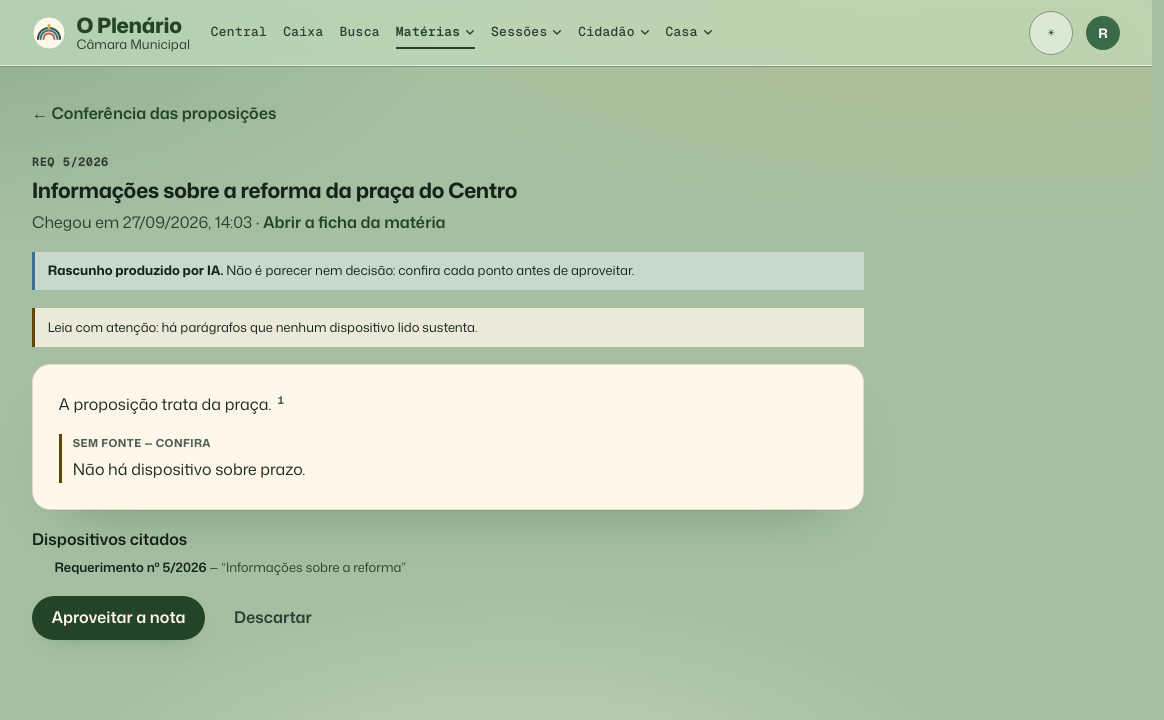
Scenario: conferências › aproveitar sem editar não manda texto (vale o da IA, limpo); descartar pede confirmação
Click the button "Descartar". click: (273, 618)
box: [214,596,331,640]
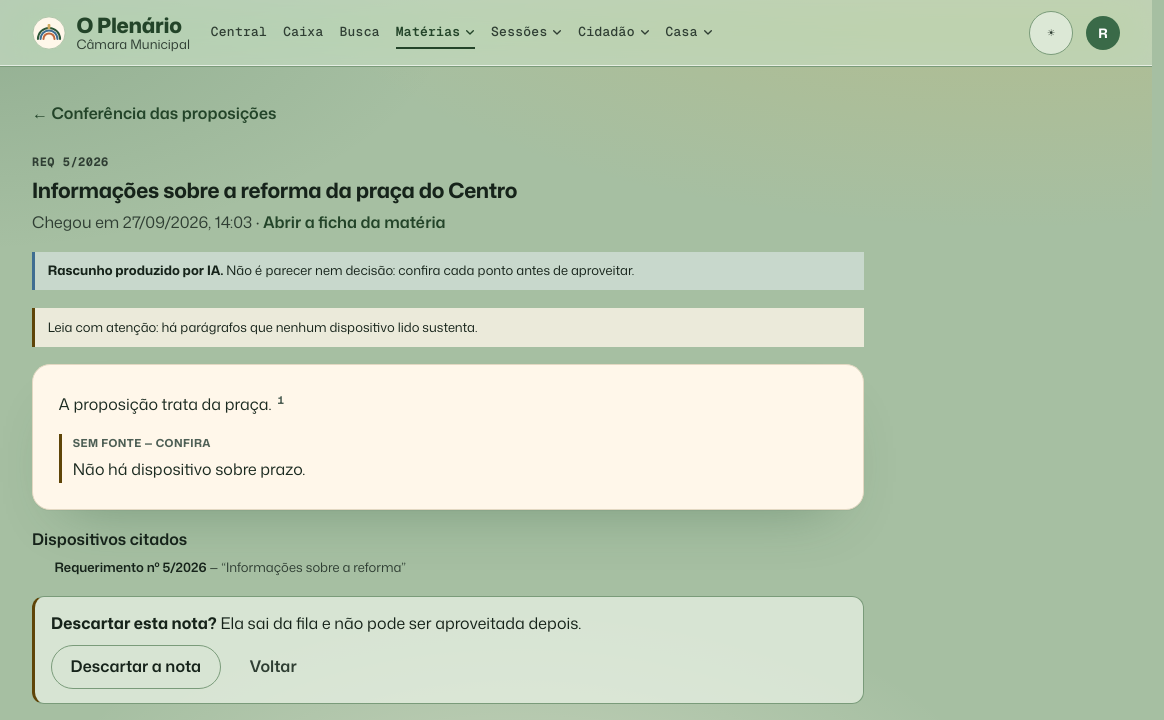
Result: the text "Descartar esta nota?" is shown at [51,612,217,634]
Click the button "Descartar a nota". click: (136, 666)
box: [51,644,220,688]
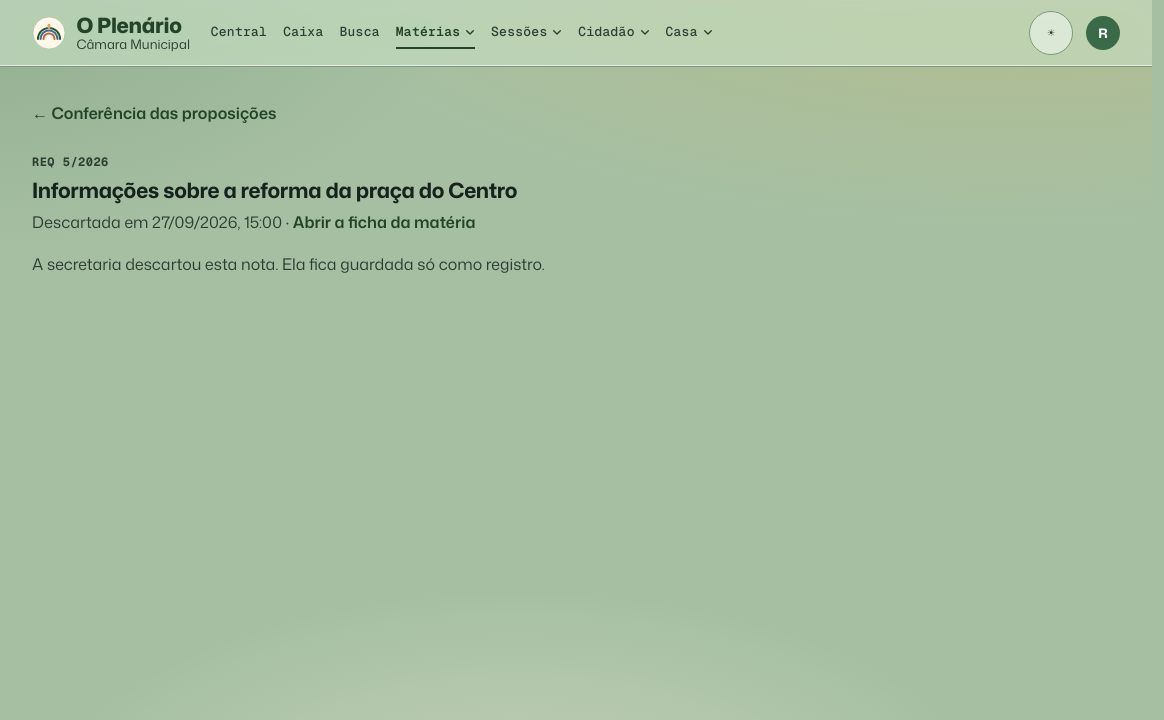
Result: the text "A secretaria descartou esta nota" is shown at [32,253,545,275]
